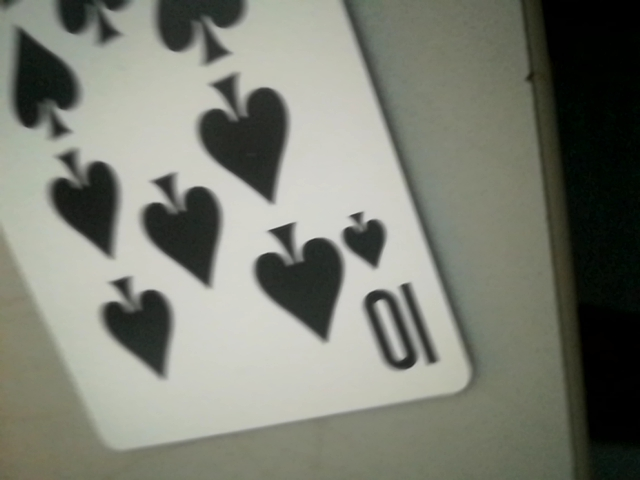ht 10: (344, 212, 442, 381)
